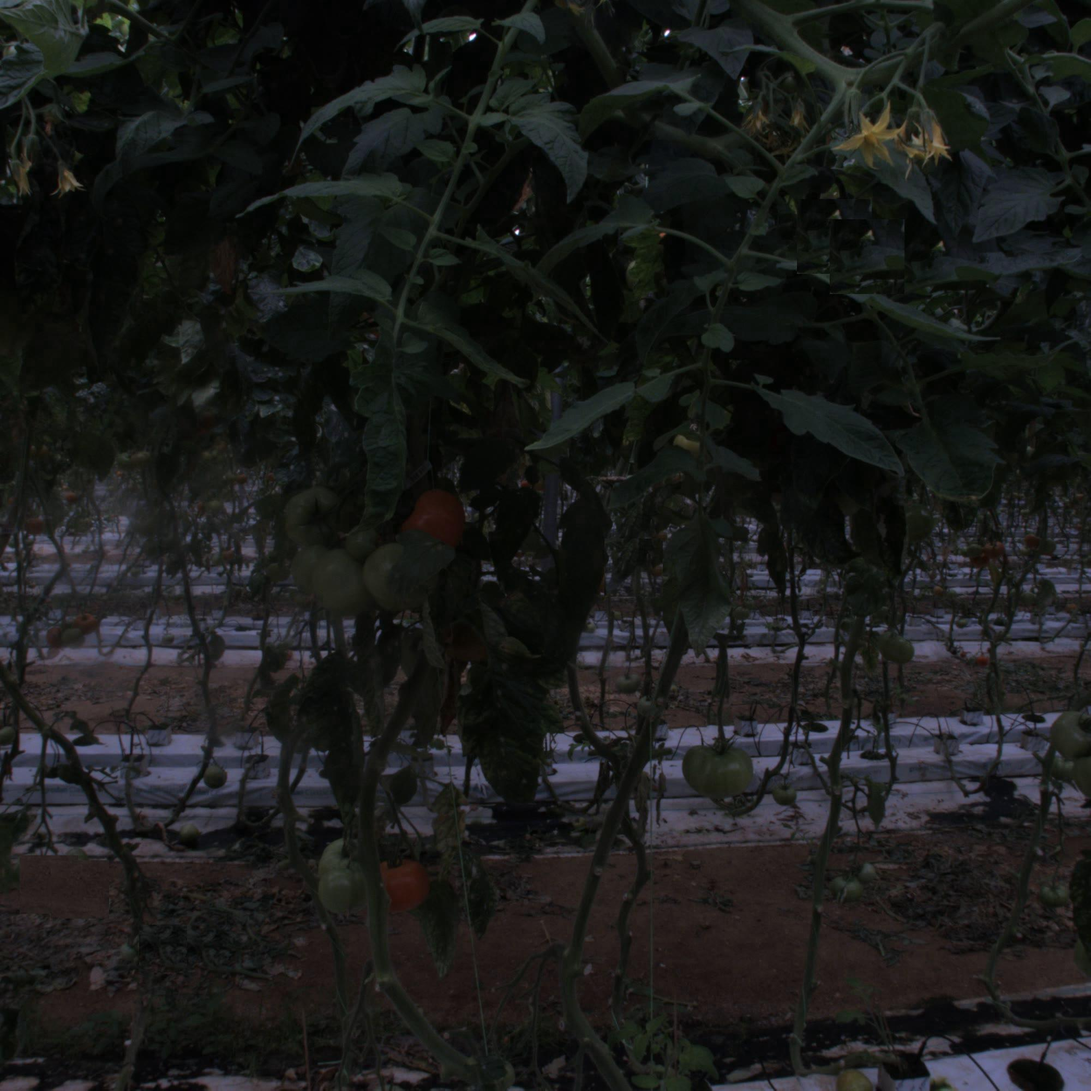['unripe', 'semi-ripe', 'fully-ripe']: (306, 549, 375, 618), (362, 543, 430, 612), (683, 733, 752, 801), (284, 485, 344, 546), (317, 868, 368, 919)
